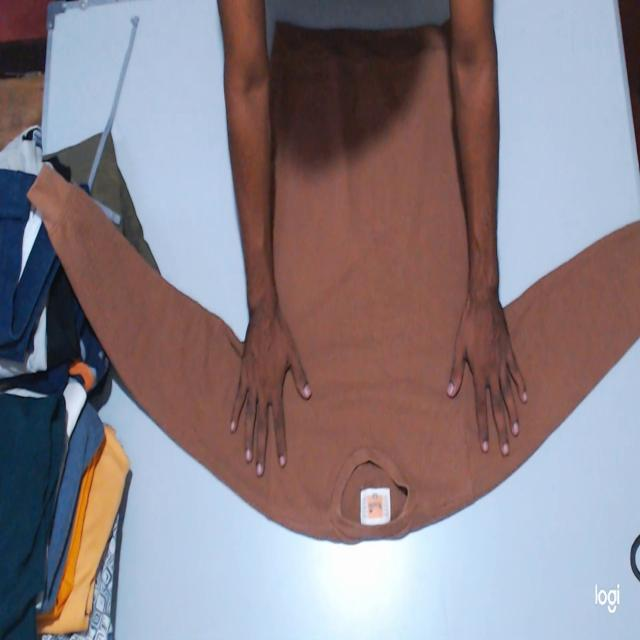new-garment: (36, 25, 640, 541)
